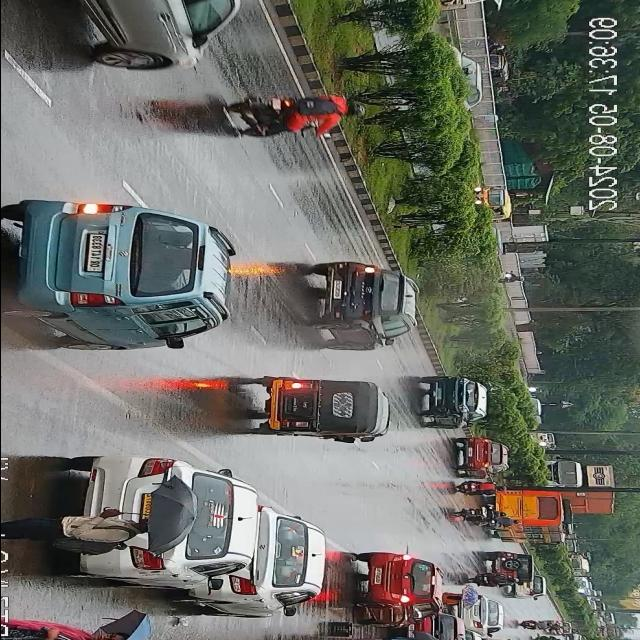2-wheelers: (228, 85, 354, 144), (444, 502, 500, 527), (453, 474, 506, 494)
auto: (257, 376, 383, 440), (464, 185, 514, 219)
bus: (493, 482, 575, 544)
car: (7, 202, 229, 352), (66, 454, 254, 608), (64, 0, 244, 74), (214, 510, 323, 616), (314, 259, 415, 346), (365, 552, 440, 620), (420, 374, 488, 432), (444, 51, 480, 111), (454, 435, 504, 476), (482, 550, 534, 586), (454, 595, 502, 631), (510, 574, 546, 596)
pedestrian: (21, 504, 172, 554), (6, 619, 129, 640)
truck: (550, 456, 612, 510)
